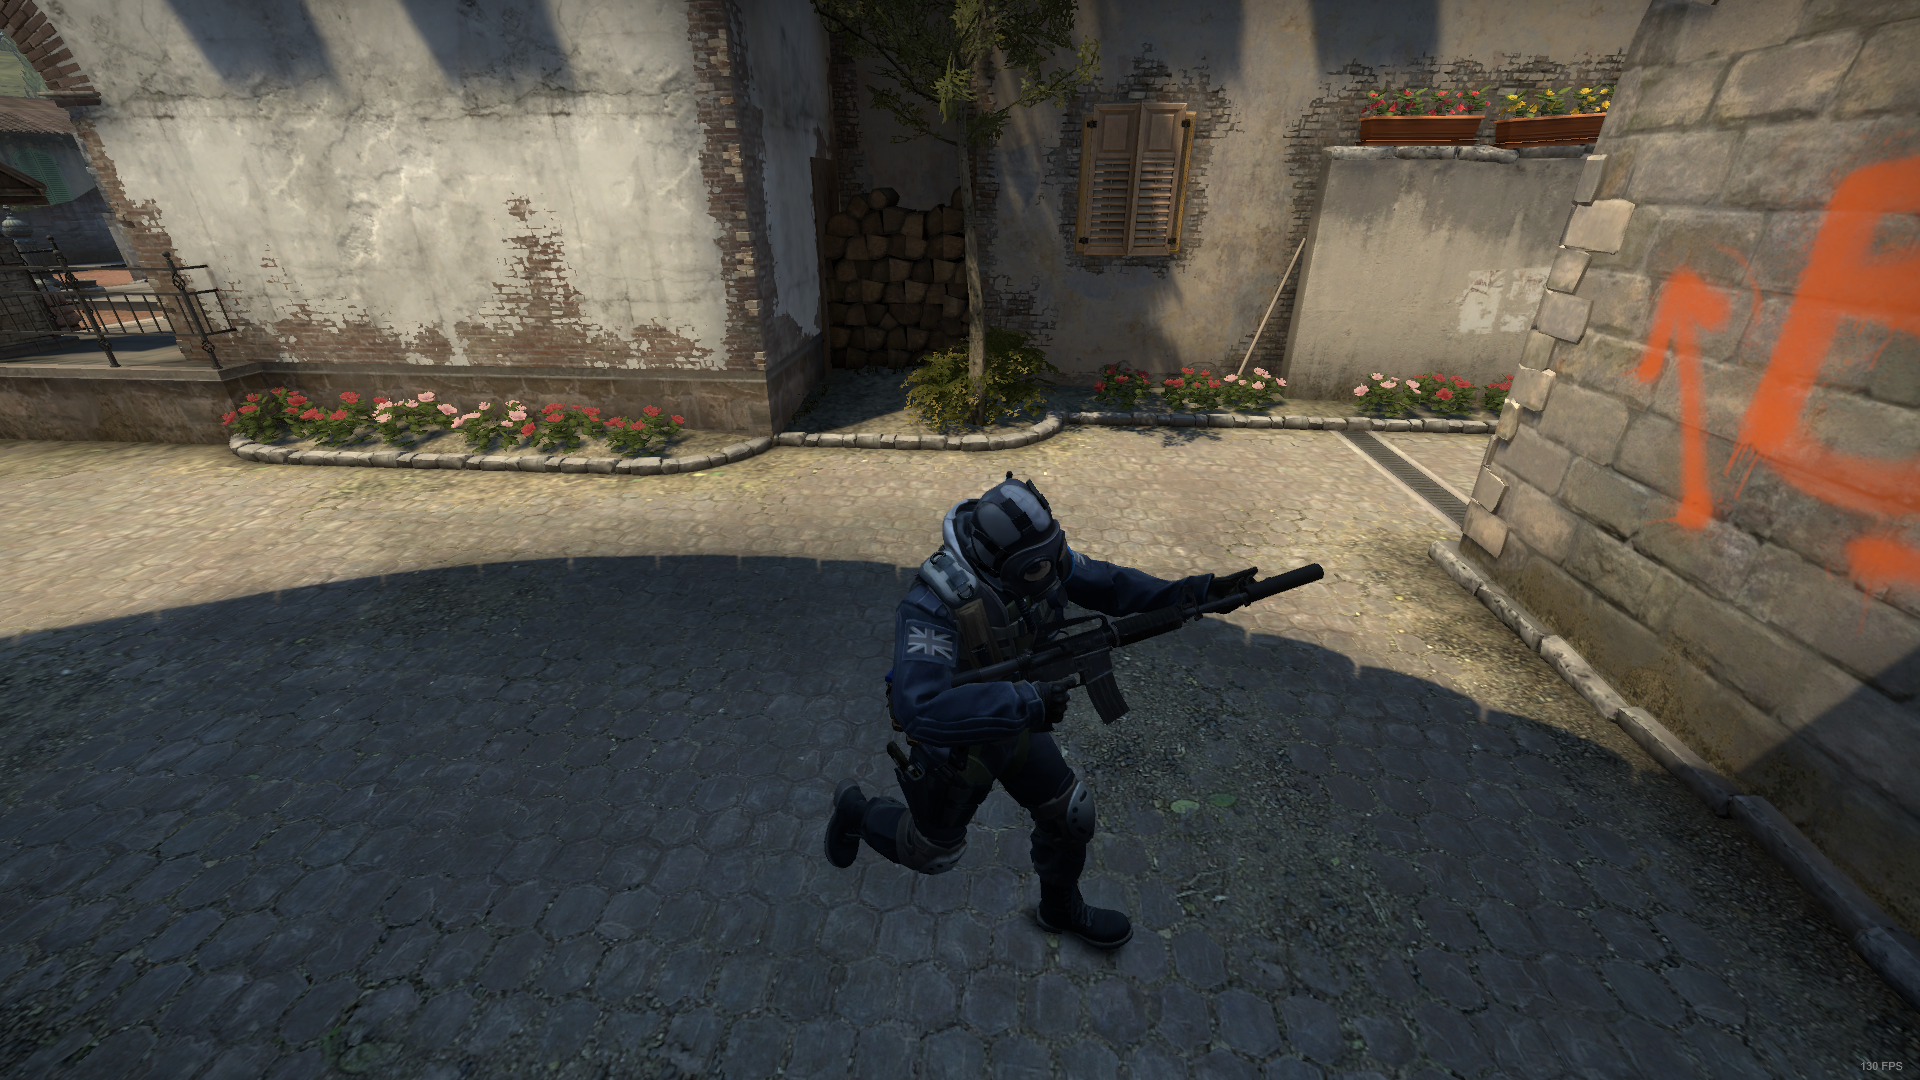ct: (823, 483, 1269, 949)
